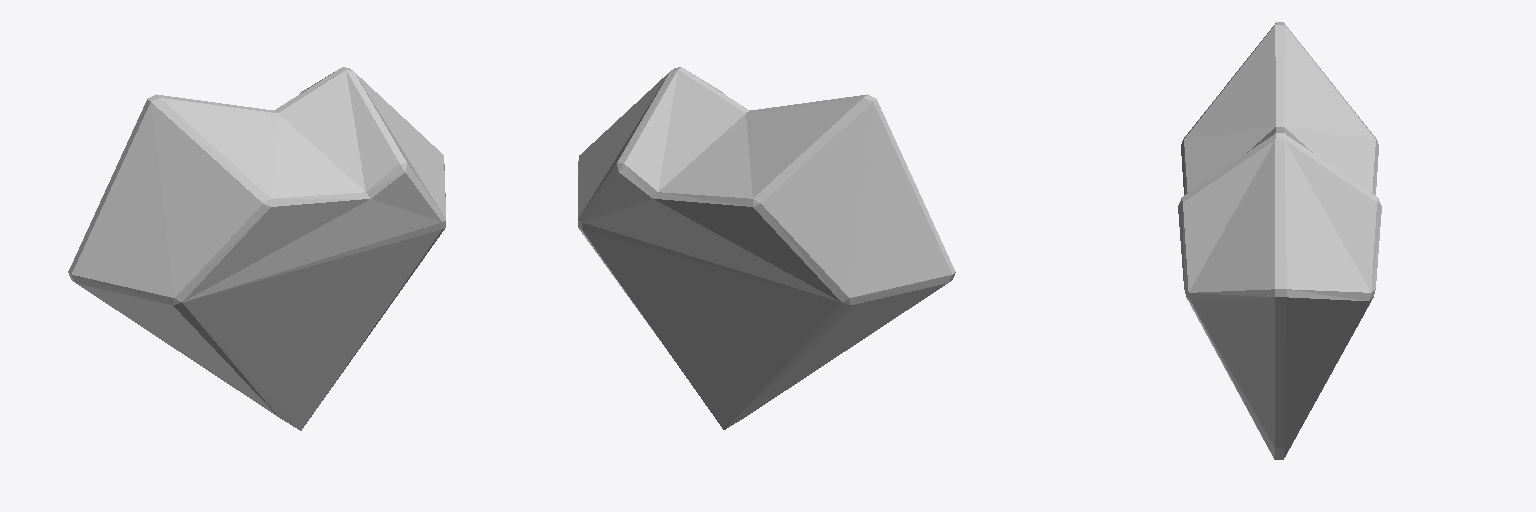
Rendered from gem_heart.obj.
3 views of the same model, side by side, from view 1: azimuth 30°, elevation 25°; view 2: azimuth 150°, elevation 25°; view 3: azimuth 270°, elevation 25° (orthographic).
Parts seen in each view (by area): view 1: gem_heart; view 2: gem_heart; view 3: gem_heart.
Part boxes in pixels (x1,y1,x2,y2): gem_heart: (68, 67, 445, 430); gem_heart: (578, 67, 955, 429); gem_heart: (1178, 22, 1381, 459).
Size of the model in its own units: 49.73 by 46.89 by 23.61.